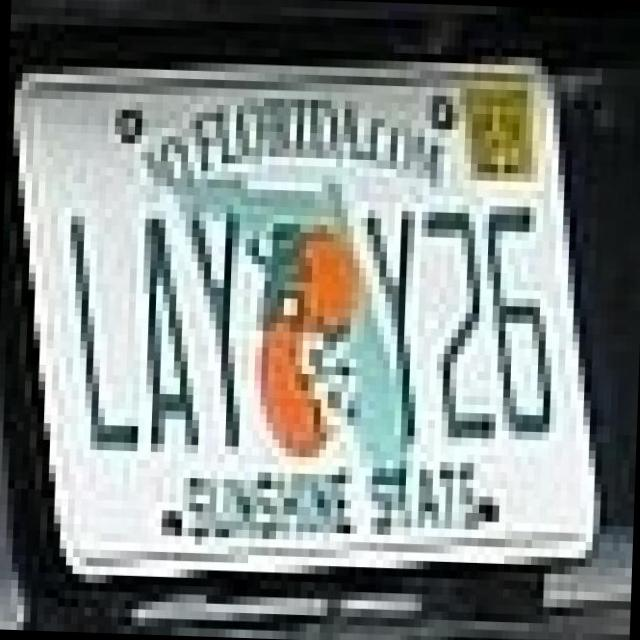6: (454, 179, 558, 432)
A: (110, 184, 200, 452)
L: (36, 182, 140, 450)
Y: (326, 166, 424, 444), (157, 178, 254, 446)
Z: (400, 178, 497, 438)
